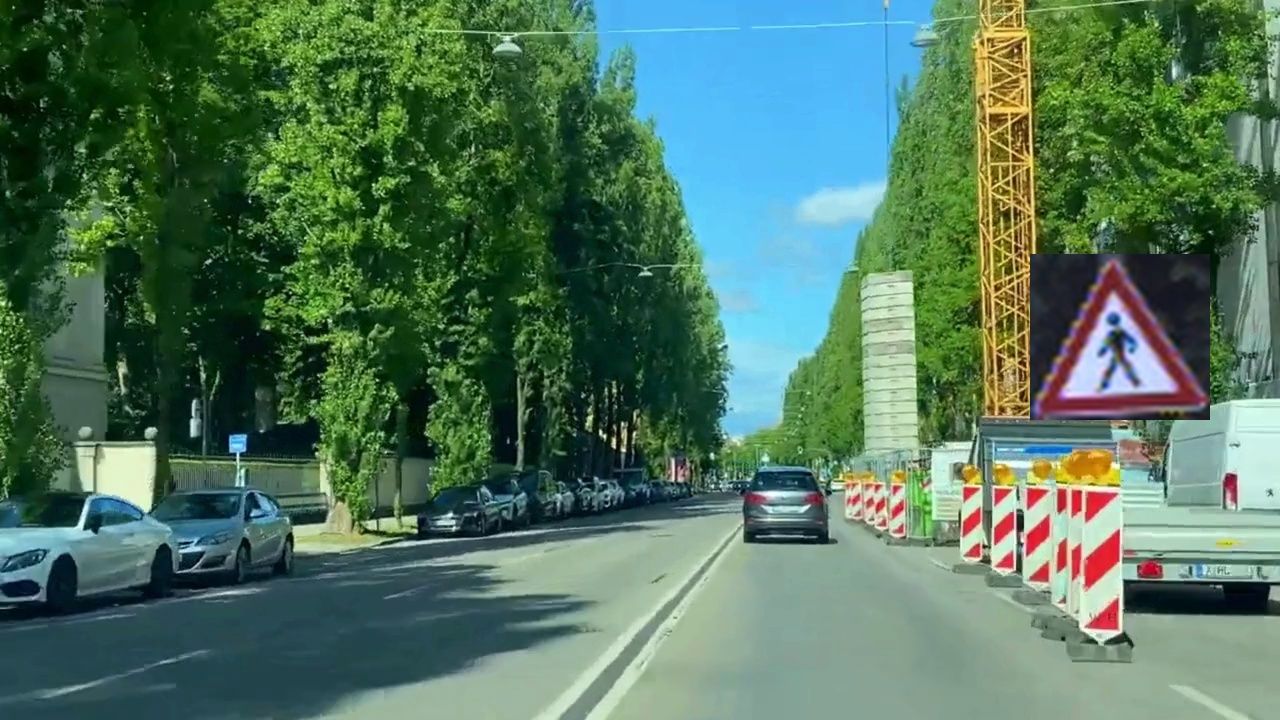Pedestrians: (1030, 254, 1210, 420)
